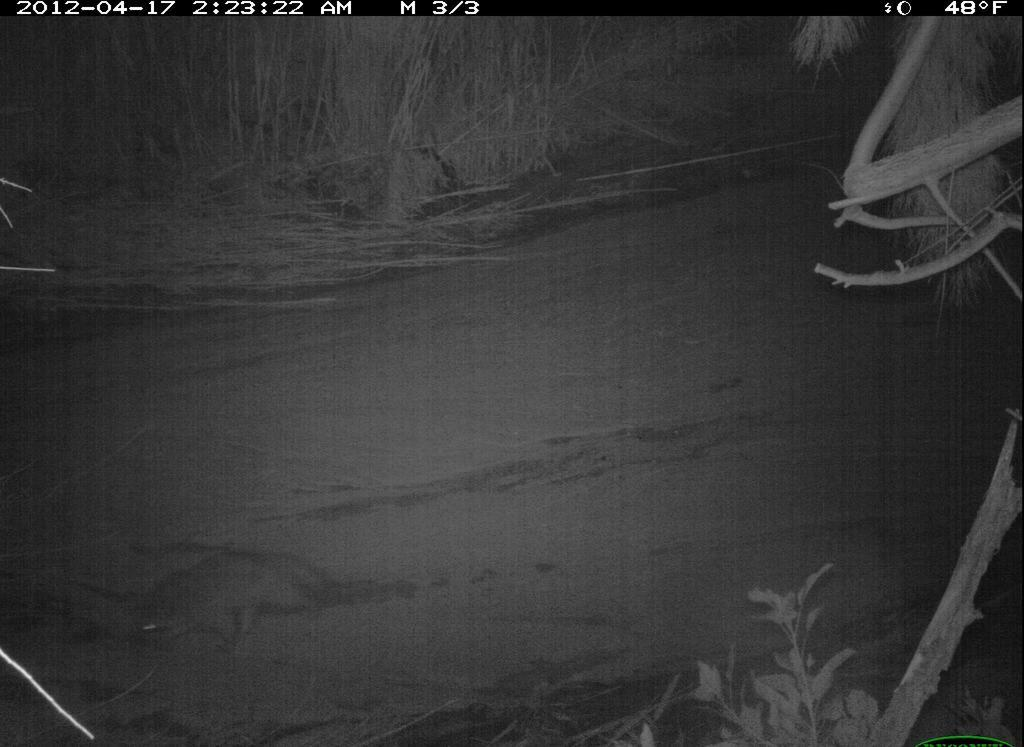raccoon: (135, 546, 344, 648)
